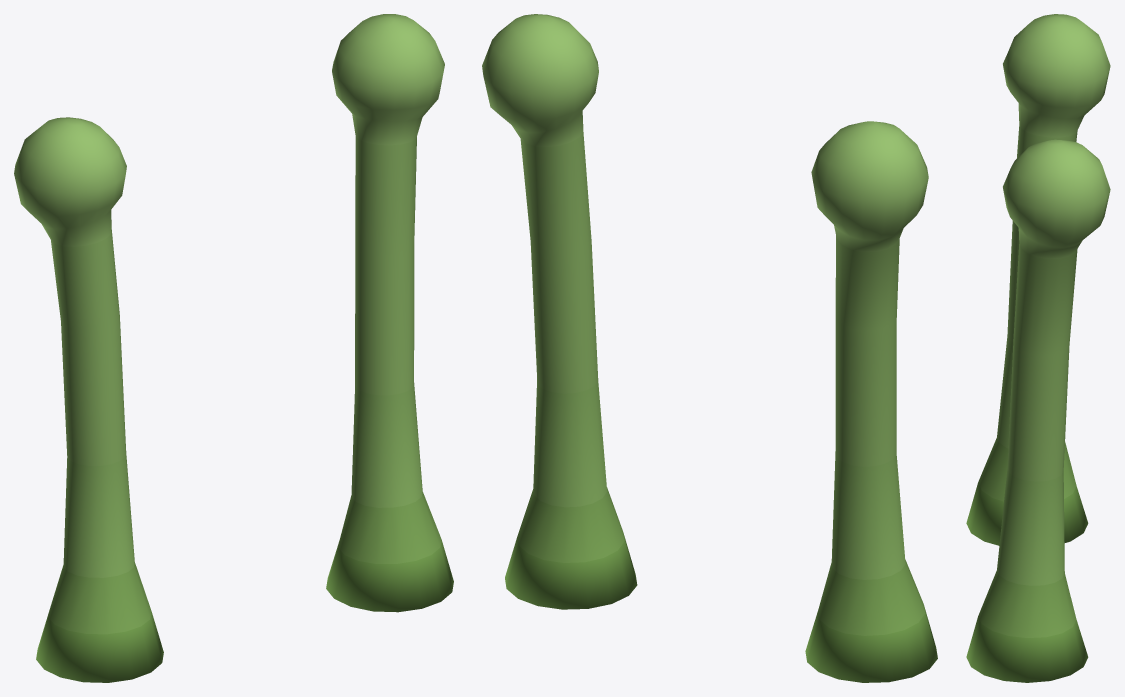
Rendered from Cosmetic_Glorp_Antennas.glb.
3 renders of one model, left to right at view 1: azimuth 30°, elevation 25°; view 2: azimuth 150°, elevation 25°; view 3: azimuth 270°, elevation 25°, orthographic. The views are drawn at different scales.
Parts seen in each view (by area): view 1: Cosmetic_Glorp_Antennas; view 2: Cosmetic_Glorp_Antennas; view 3: Cosmetic_Glorp_Antennas.
Boxes of the visible parts, x1=… form: Cosmetic_Glorp_Antennas: x1=14, y1=14, x2=453, y2=682; Cosmetic_Glorp_Antennas: x1=482, y1=14, x2=937, y2=682; Cosmetic_Glorp_Antennas: x1=966, y1=14, x2=1110, y2=682.
Size of the model in its own units: 0.388 by 0.4902 by 0.123.
